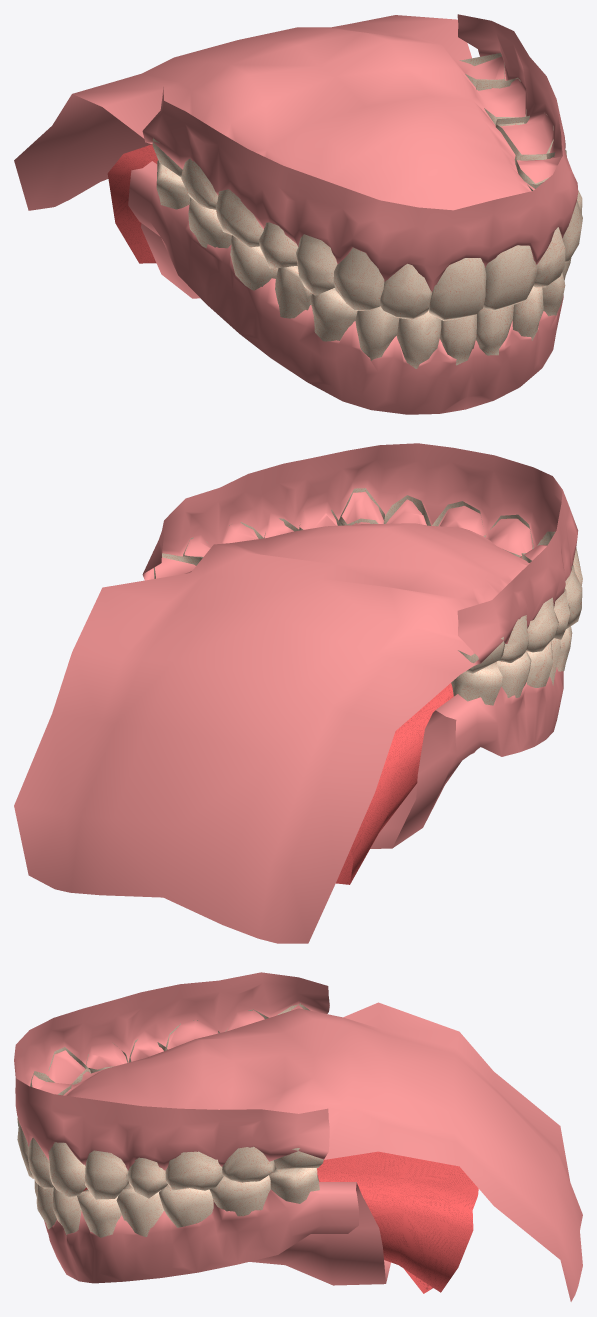
3 views of the same model, one above another, from view 1: azimuth 30°, elevation 25°; view 2: azimuth 150°, elevation 25°; view 3: azimuth 270°, elevation 25° (orthographic). The views are drawn at different scales.
Parts seen in each view (by area): view 1: group_18, group_1, group_31, group_2, group_32, group_30, group_19, group_29, group_11, group_13, group_27, group_12 (+14 smaller); view 2: group_18, group_1, group_2, group_17, group_27, group_16, group_15, group_26, group_29; view 3: group_18, group_1, group_2, group_22, group_24, group_0, group_3, group_34, group_4, group_21, group_5, group_6 (+5 smaller).
Boxes of the visible parts, x1,y1,x2,y2 form: group_18: (14,14,578,291); group_1: (128,161,563,414); group_31: (428,258,486,320); group_2: (107,144,157,263); group_32: (483,245,537,310); group_30: (333,247,384,310); group_19: (380,263,431,319); group_29: (296,234,337,295); group_11: (396,310,441,368); group_13: (310,288,357,341); group_27: (215,189,263,247); group_12: (355,306,399,360); group_18: (14,443,578,943); group_1: (370,667,563,848); group_2: (336,683,453,884); group_17: (451,662,502,705); group_27: (526,597,558,652); group_16: (496,650,531,697); group_15: (526,641,552,687); group_26: (498,615,528,662); group_29: (565,565,582,628); group_18: (14,972,582,1301); group_1: (44,1182,390,1285); group_2: (83,1151,478,1293); group_22: (165,1151,223,1190); group_24: (85,1150,128,1199); group_0: (209,1175,270,1216); group_3: (159,1185,213,1227); group_34: (48,1142,85,1197); group_4: (116,1183,163,1236); group_21: (222,1146,276,1182); group_5: (269,1168,319,1203); group_6: (77,1189,121,1237).
Size of the model in its own units: 2.47 by 3.99 by 1.96.
